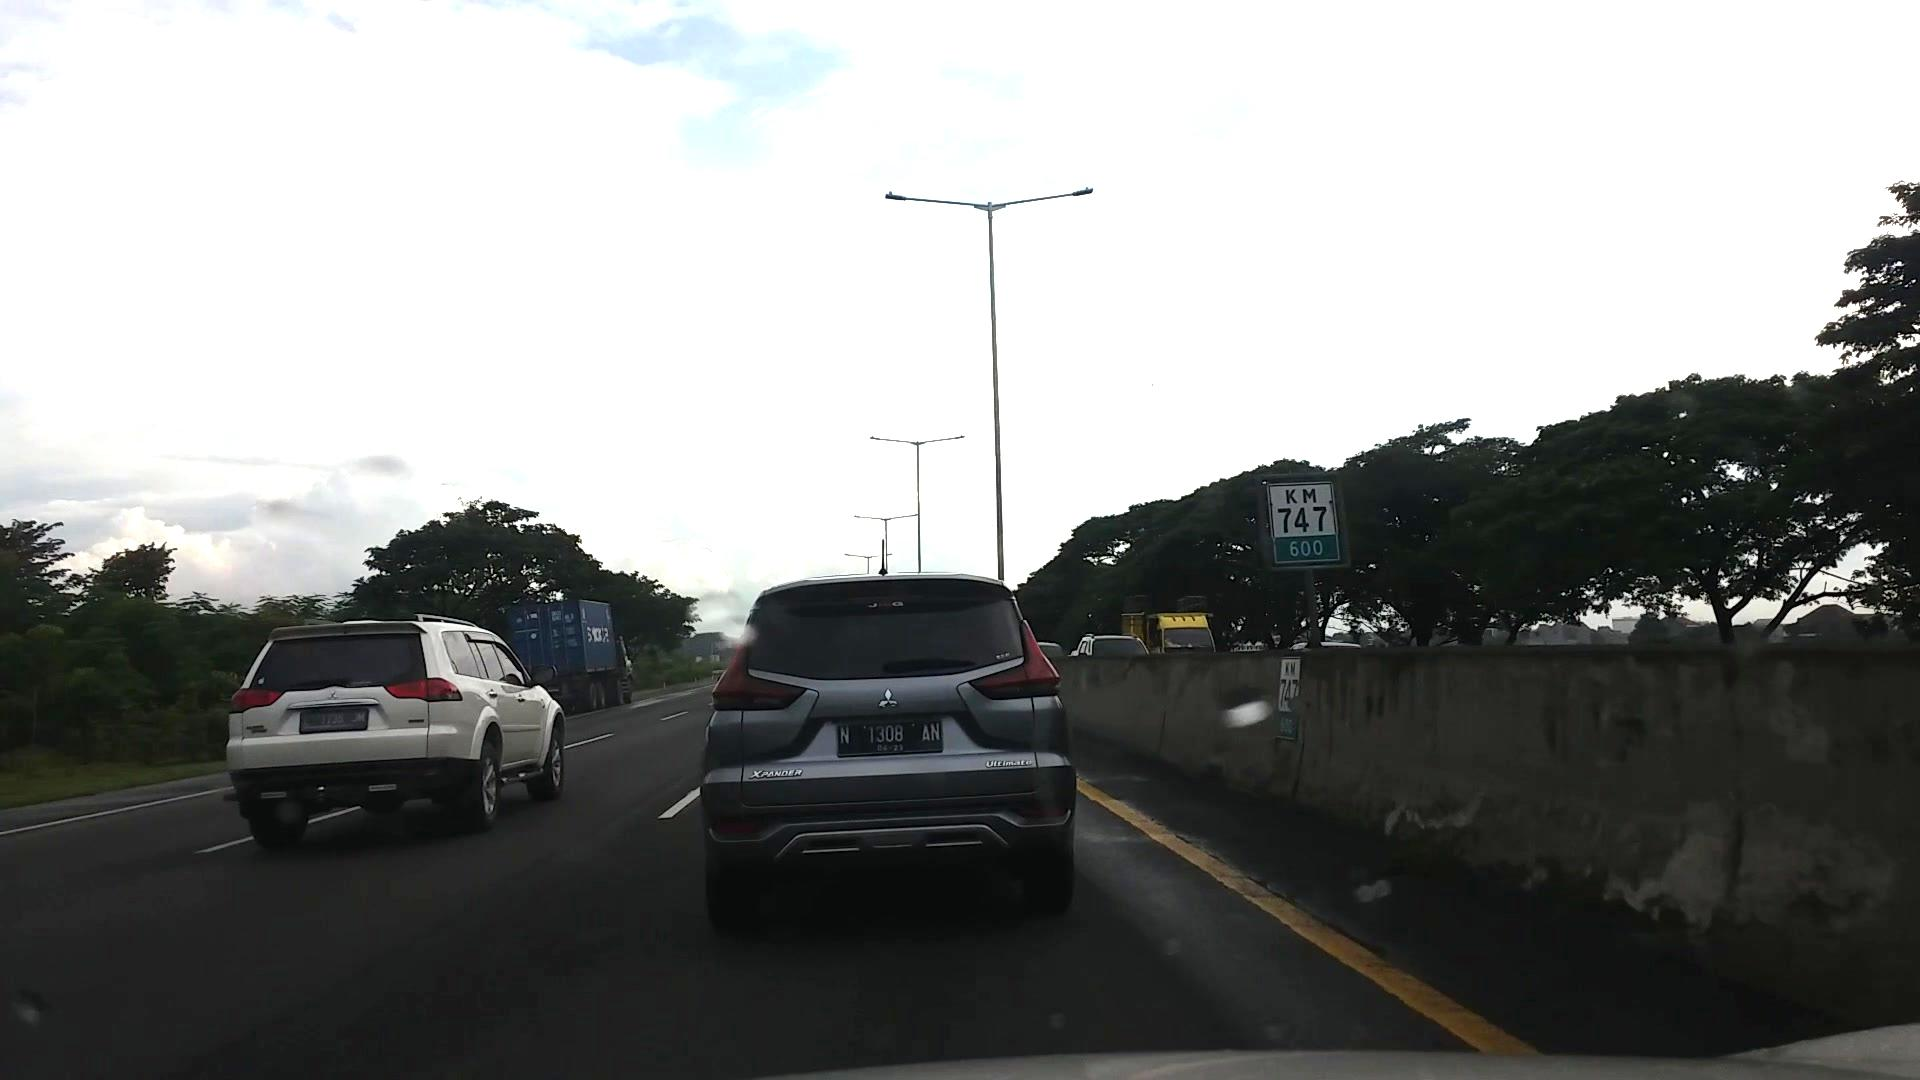plate_positive: (837, 720, 942, 754)
